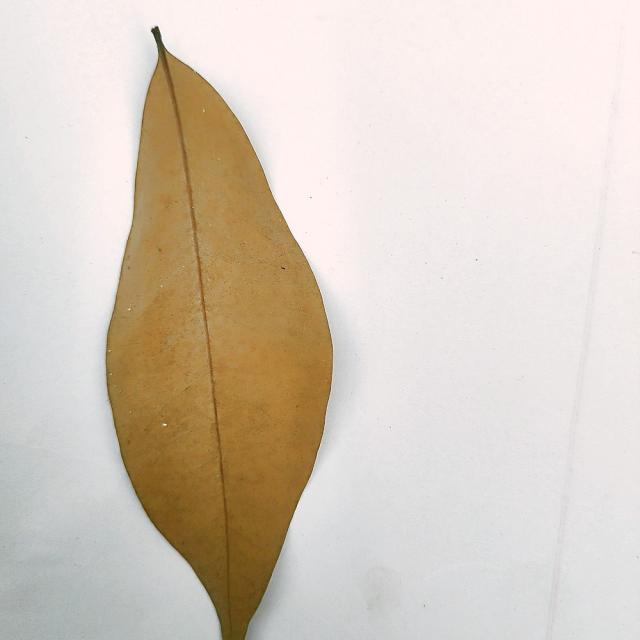Dry_Leaf-Lychee: (105, 30, 334, 639)
